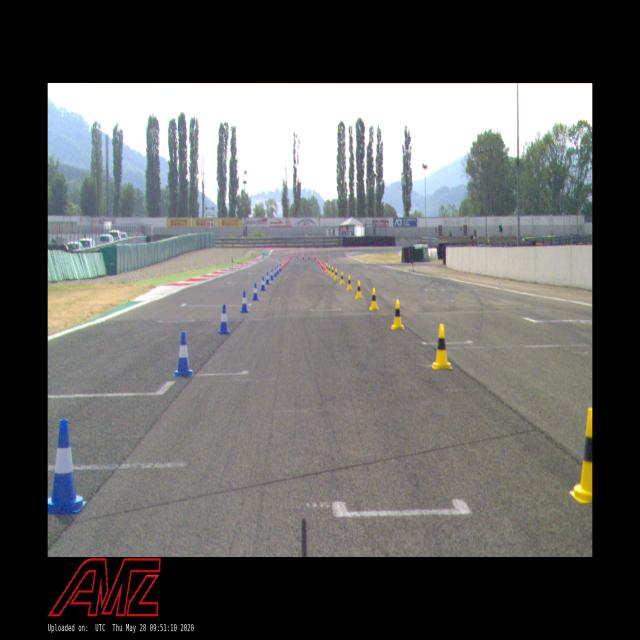blue_cone: (48, 418, 87, 514), (173, 332, 194, 378), (217, 304, 231, 336), (240, 290, 250, 314), (252, 283, 259, 301), (260, 276, 266, 291), (265, 272, 270, 285), (270, 269, 274, 280), (274, 268, 278, 278)
yellow_cone: (570, 408, 592, 505), (432, 323, 452, 370), (391, 299, 404, 330), (369, 287, 379, 312), (355, 280, 364, 300), (346, 274, 353, 291), (339, 270, 345, 286), (334, 268, 338, 280), (331, 266, 335, 277)
